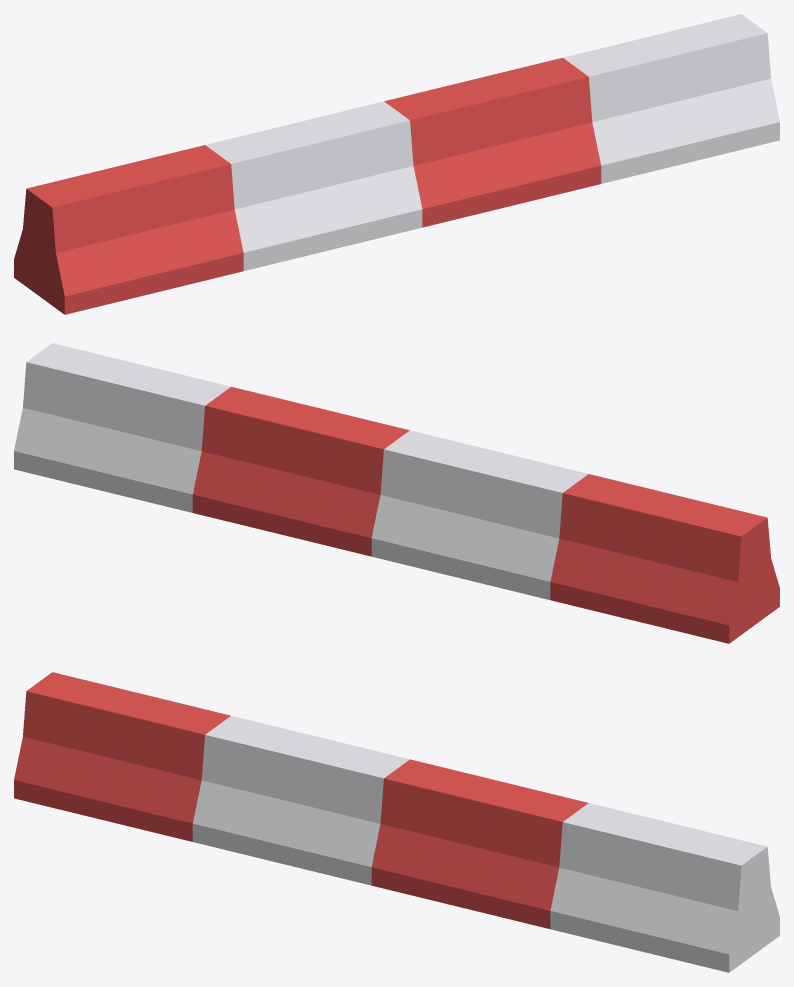
The model's file is kit_barrierWall.obj.
3 views of the same model, one above another, from view 1: azimuth 30°, elevation 25°; view 2: azimuth 150°, elevation 25°; view 3: azimuth 330°, elevation 25° (orthographic).
Visible parts, largest first — view 1: barrierWall; view 2: barrierWall; view 3: barrierWall.
Part boxes in pixels (box(x1,y1,x2,y2)): barrierWall: box(14, 14, 779, 314); barrierWall: box(14, 343, 779, 643); barrierWall: box(14, 672, 779, 972).
Bounding box in the file's own units: 1 × 0.1312 × 0.123.
